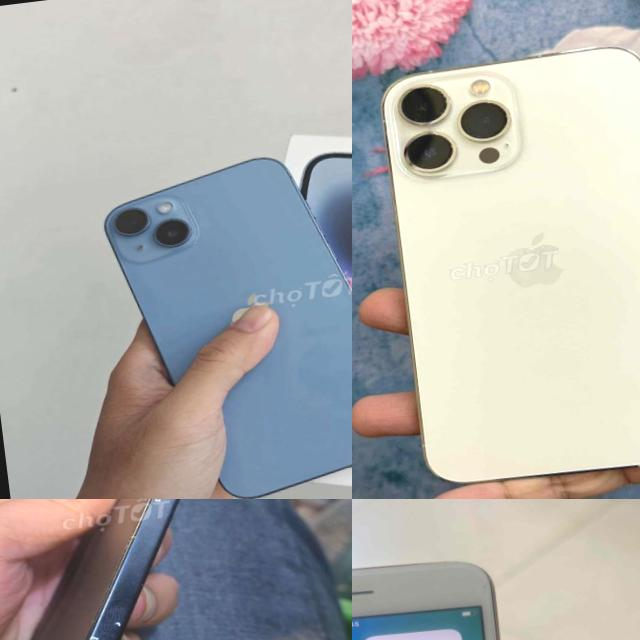scratch: (352, 539, 560, 640), (34, 613, 156, 640), (117, 499, 188, 544)
